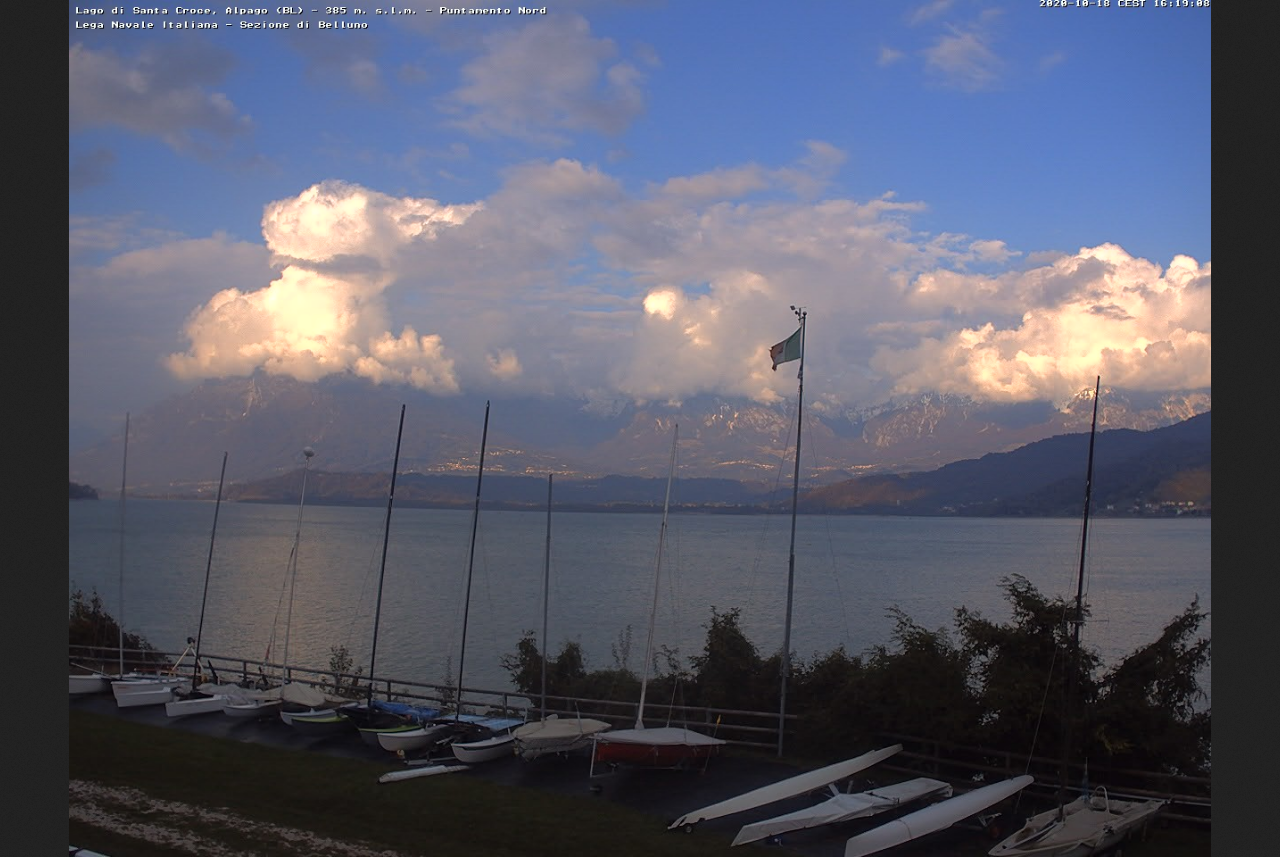maybe: (763, 319, 809, 374)
